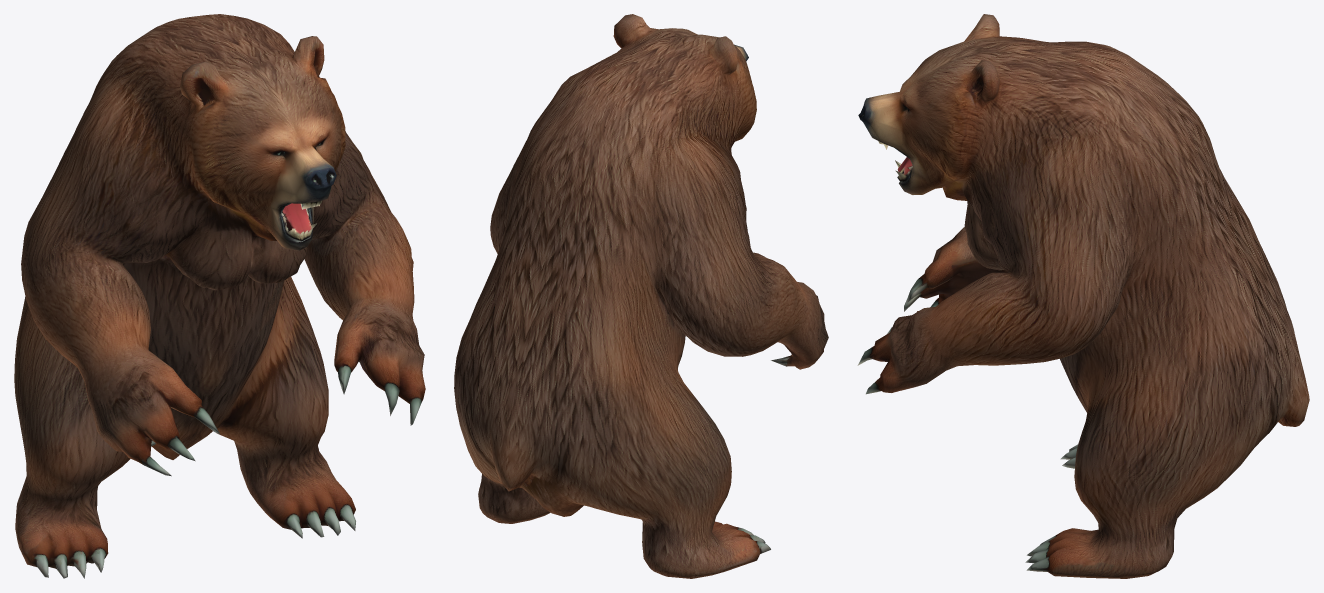
The model's file is bear_brown.glb.
3 renders of one model, left to right at view 1: azimuth 30°, elevation 25°; view 2: azimuth 150°, elevation 25°; view 3: azimuth 270°, elevation 25°, orthographic. The views are drawn at different scales.
Visible parts, largest first — view 1: Mesh_0; view 2: Mesh_0; view 3: Mesh_0.
Boxes of the visible parts, x1,y1,x2,y2 form: Mesh_0: (14,14,425,578); Mesh_0: (454,14,828,578); Mesh_0: (857,14,1309,578).
Bounding box in the file's own units: 1.32 × 2 × 1.71.
1 material, 1 textured.
